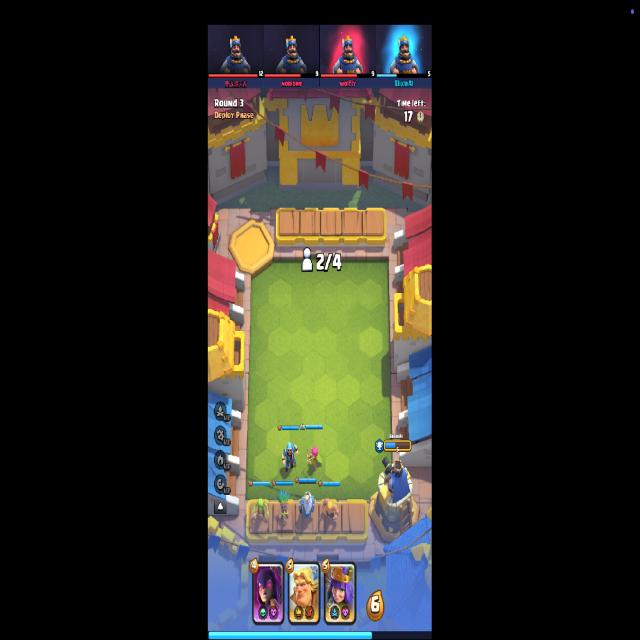archer: (305, 446, 322, 470)
barbarian: (317, 498, 339, 526)
card_archer_queen: (324, 560, 356, 625)
card_golden_knight: (286, 562, 321, 626)
card_witch: (252, 561, 284, 626)
dart_goblin: (277, 492, 292, 521)
goblin: (252, 498, 269, 521)
royal_ghost: (298, 492, 314, 522)
wizard: (282, 442, 298, 473)
